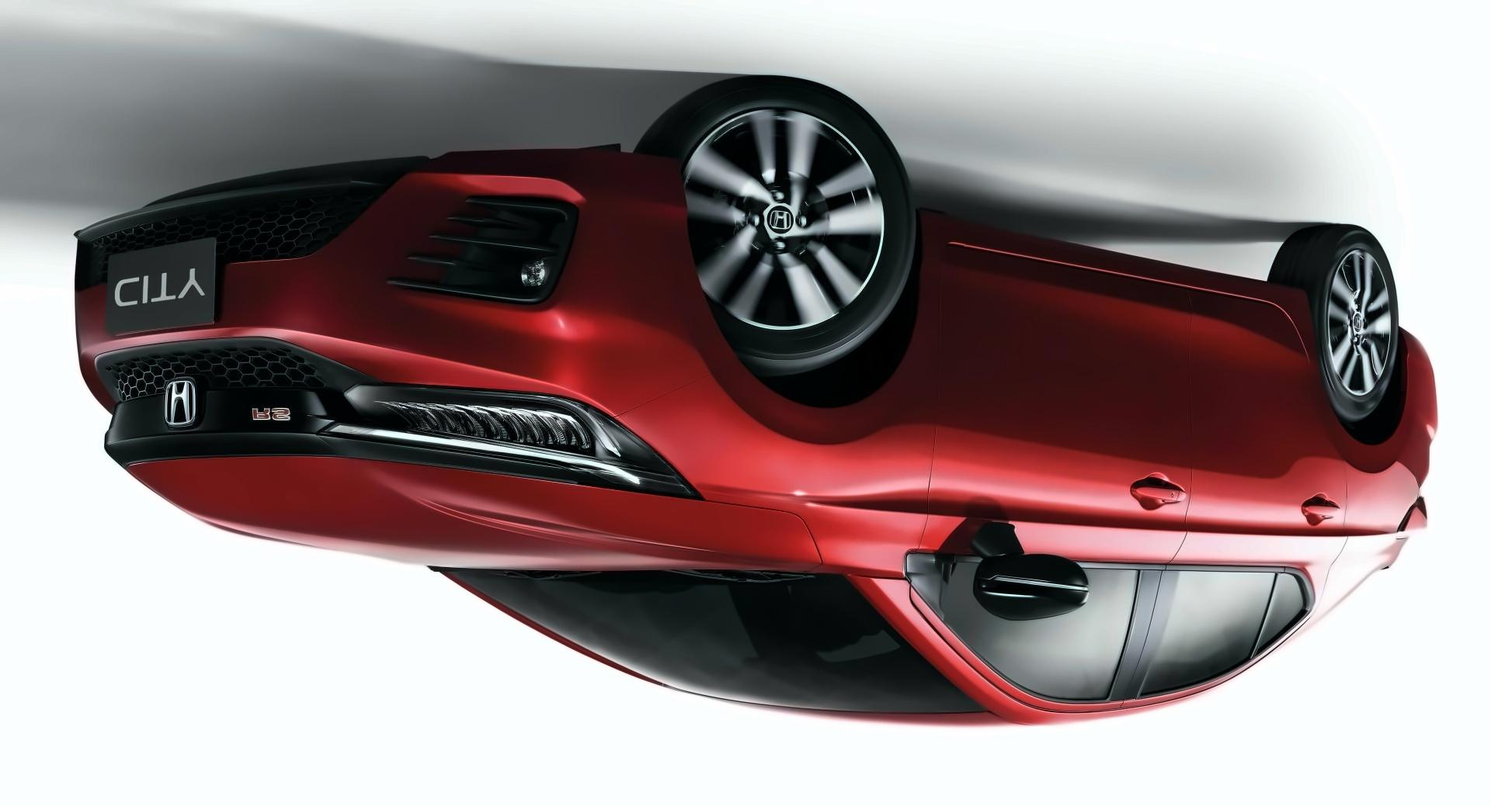Car hood: (117, 450, 826, 577)
Driver-s door - -F-R-: (906, 177, 1169, 724)
Fender - -F-R-: (616, 246, 948, 579), (1394, 494, 1432, 546)
Fender - -R-R-: (1265, 333, 1430, 572)
Front bumper: (58, 141, 709, 419)
Headlight - -R-: (319, 384, 702, 504)
Passenger-s door - -R-R-: (1108, 223, 1328, 732)
Rear bumper: (1338, 317, 1448, 535)
Side bumper - -R-: (910, 189, 1320, 410)
Side mirror - -R-: (963, 521, 1087, 624)
